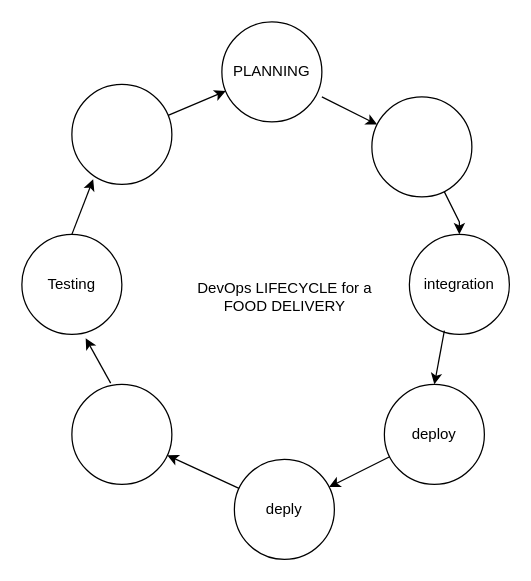
Image size: 531x581. Some labels were removed from this diagram. The shapes that lost their labels are listed below. From the top down, each one's box as (x1, y1, x2, y2) in pixels, then its label:
(71, 83, 172, 184): Feedback
(371, 96, 472, 197): development
(71, 383, 172, 484): Operate and Monitor
